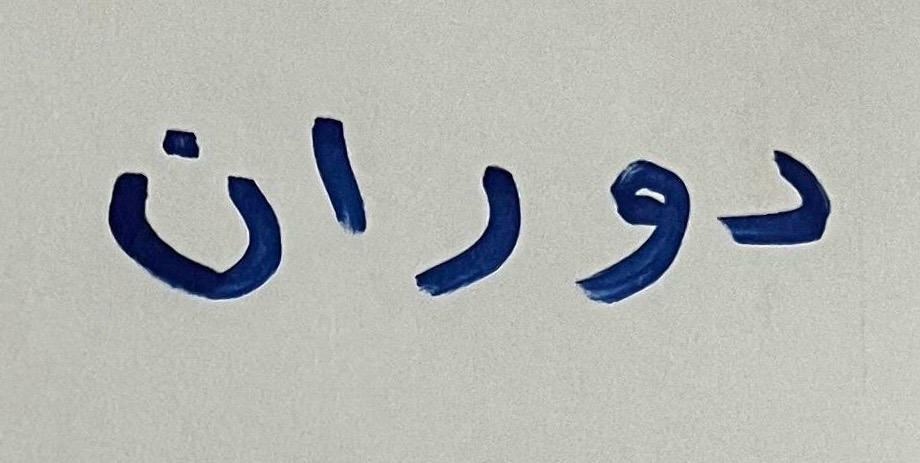alef: (290, 79, 383, 289)
dal: (710, 94, 869, 301)
noon: (85, 59, 285, 339)
reh: (388, 94, 552, 353)
waw: (559, 95, 705, 327)
